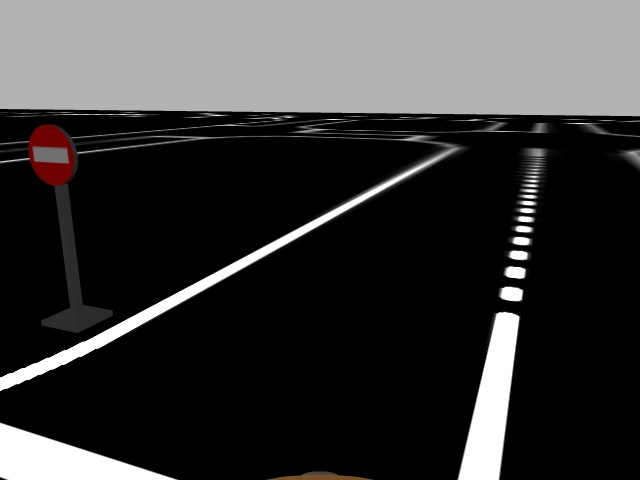prohibited: (28, 123, 78, 191)
